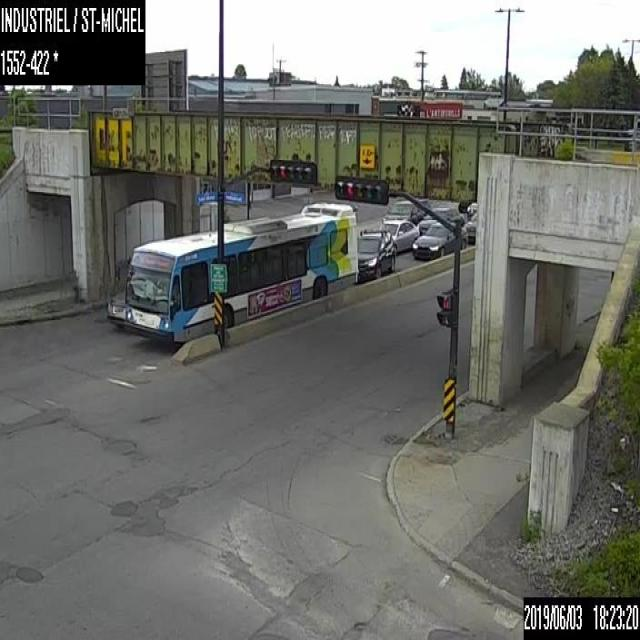bus: (125, 200, 358, 344)
vehicle: (411, 220, 467, 261), (356, 229, 395, 281), (376, 219, 418, 253), (419, 206, 462, 234), (382, 198, 429, 222), (106, 287, 126, 329), (460, 210, 476, 245)
